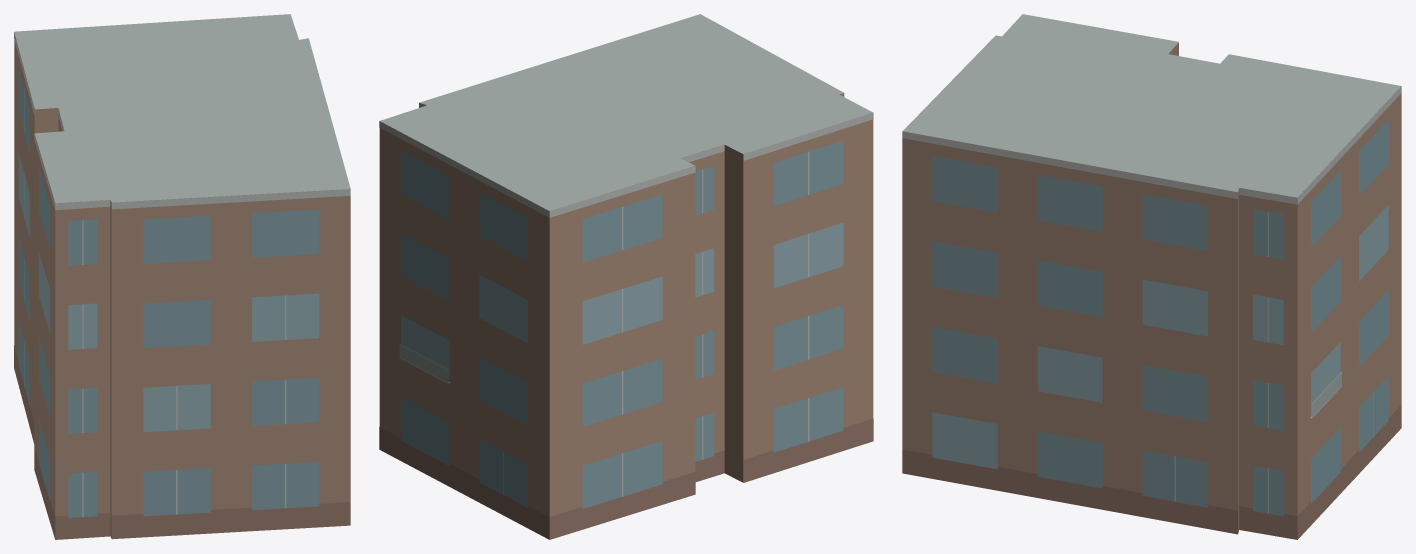
Rendered from survey-upis-32566218.glb.
3 views of the same model, side by side, from view 1: azimuth 30°, elevation 25°; view 2: azimuth 150°, elevation 25°; view 3: azimuth 270°, elevation 25° (orthographic). The views are drawn at different scales.
Visible parts, largest first — view 1: survey-upis-32566218.tmp; view 2: survey-upis-32566218.tmp; view 3: survey-upis-32566218.tmp.
Boxes of the visible parts, left/top/right/bottom form: survey-upis-32566218.tmp: left=14, top=14, right=350, bottom=539; survey-upis-32566218.tmp: left=379, top=14, right=873, bottom=539; survey-upis-32566218.tmp: left=902, top=14, right=1401, bottom=539.
Size of the model in its own units: 13.86 by 12.02 by 15.91.
